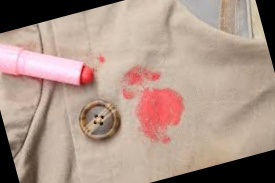lipstick: (129, 83, 196, 148), (113, 59, 158, 104), (126, 66, 169, 96), (95, 53, 106, 65)
